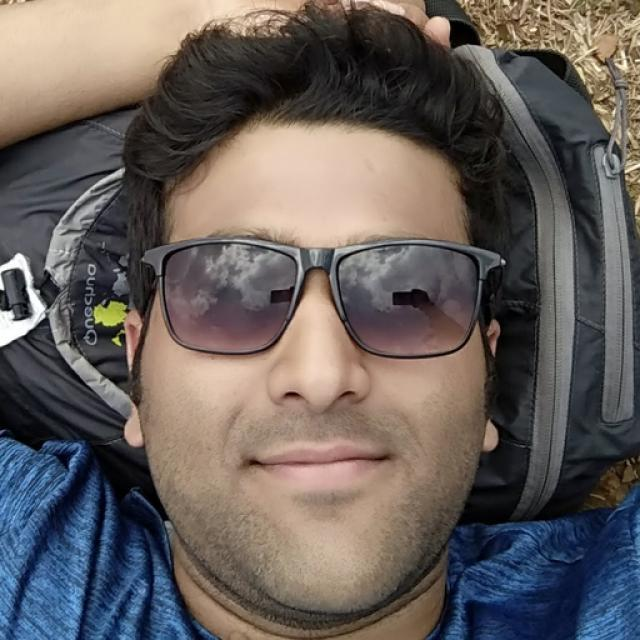content: (141, 114, 487, 617)
